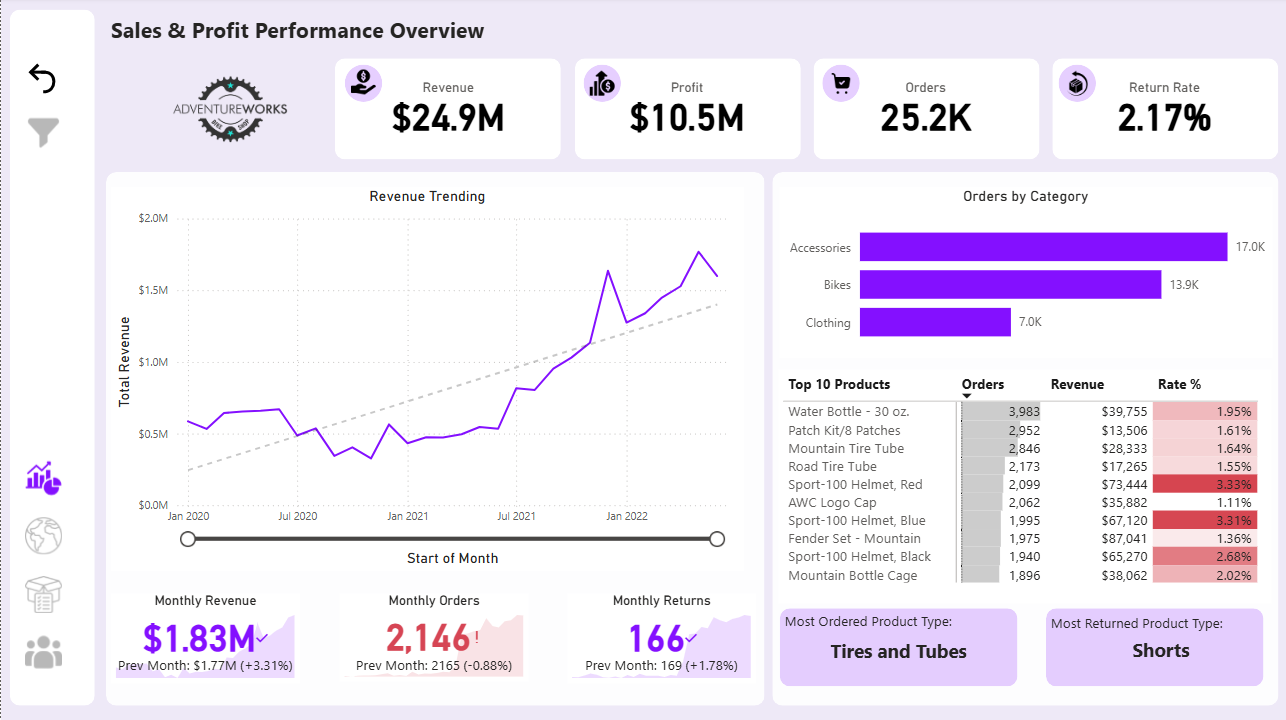

Layout of this report page (visuals, bound fields, positions):
{"tool":"powerbi","page":{"name":"Exec Dashboard","canvas":[1280,720],"ordinal":0},"visuals":[{"type":"group","id":"g1","title":"KPI shapes","box":[331.8,60.8,939.8,100.8],"z":0,"group":"g3"},{"type":"shape","box":[331.8,60.8,225.2,100.8],"z":0,"group":"g1"},{"type":"cardVisual","fields":{"Data":["Measure table.Total Revenue"]},"box":[342.3,60.8,206.3,101],"z":0,"group":"g2"},{"type":"shape","box":[767.5,174.2,503.8,531.2],"z":0},{"type":"actionButton","box":[20.6,455.9,44.7,44.7],"z":0,"group":"g4"},{"type":"group","id":"g2","title":"KPI Values","box":[342.3,60.8,919,101],"z":1000,"group":"g3"},{"type":"shape","box":[570,60.8,225.2,100.8],"z":1000,"group":"g1"},{"type":"cardVisual","fields":{"Data":["Measure table.Total Profit"]},"box":[579.9,60.8,206.3,101],"z":1000,"group":"g2"},{"type":"shape","box":[104.5,174.2,655.6,531.2],"z":1000},{"type":"actionButton","box":[20.5,513.4,45,45],"z":1000,"group":"g4"},{"type":"shape","box":[808.2,60.8,225.2,100.8],"z":2000,"group":"g1"},{"type":"cardVisual","fields":{"Data":["Measure table.Total Orders"]},"box":[817.4,60.8,206.3,101],"z":2000,"group":"g2"},{"type":"actionButton","box":[20.5,571.2,45,45],"z":2000,"group":"g4"},{"type":"shape","box":[1040.2,608.8,216.4,77.9],"z":2000},{"type":"shape","box":[1046.5,60.8,225.2,100.8],"z":3000,"group":"g1"},{"type":"cardVisual","fields":{"Data":["Measure table.Return Rate"]},"box":[1055,60.8,206.3,101],"z":3000,"group":"g2"},{"type":"lineChart","title":"Revenue Trending","fields":{"Category":["Calendar Lookup.Date Hierarchy.Start of Month"],"Y":["Measure table.Total Revenue"]},"box":[109.5,189.1,629.4,381.9],"z":3000},{"type":"actionButton","box":[20.5,629,45,45],"z":3000,"group":"g4"},{"type":"shape","title":"Nav Shape","box":[8.7,12.4,84.6,692.9],"z":4000},{"type":"group","id":"g3","title":"KPIs","box":[331.8,60.8,939.2,101],"z":5000},{"type":"kpi","title":"Monthly Revenue","fields":{"Indicator":["Measure table.Total Revenue"],"TrendLine":["Calendar Lookup.Date Hierarchy.Start of Month"],"Goal":["Measure table.Previous Month Revenue"]},"box":[109.5,593.4,187.8,89.6],"z":6000},{"type":"kpi","title":"Monthly Orders","fields":{"TrendLine":["Calendar Lookup.Date Hierarchy.Start of Month"],"Indicator":["Measure table.Total Orders"],"Goal":["Measure table.Previous Month Orders"]},"box":[337.1,593.4,187.8,88.3],"z":7000},{"type":"kpi","title":"Monthly Returns","fields":{"TrendLine":["Calendar Lookup.Date Hierarchy.Start of Month"],"Indicator":["Measure table.Total Returns"],"Goal":["Measure table.Previous Month Returns"]},"box":[563.5,593.4,187.8,89.6],"z":8000},{"type":"clusteredBarChart","title":"Orders by Category","fields":{"Category":["Product Categories Lookup.CategoryName"],"Y":["Measure table.Total Orders"]},"box":[775,189.1,490.1,170.4],"z":9000},{"type":"pivotTable","fields":{"Rows":["Product Lookup.ProductName"],"Values":["Measure table.Total Orders","Measure table.Total Revenue","Measure table.Return Rate"]},"box":[773.7,370.7,490.1,232.6],"z":10000},{"type":"shape","box":[774.8,608.8,236.6,77.9],"z":11000},{"type":"cardVisual","fields":{"Data":["Min(Product Subcategories Lookup.SubcategoryName)"]},"box":[790.6,618.9,204.9,59.2],"z":12000},{"type":"textbox","box":[774.8,607.4,199.1,36.1],"z":13000},{"type":"cardVisual","fields":{"Data":["Min(Product Subcategories Lookup.SubcategoryName)"]},"box":[1051.9,619.4,204.7,58.7],"z":14000},{"type":"textbox","box":[1039.4,608.7,199.3,35.6],"z":15000},{"type":"actionButton","box":[21.1,61,46,39.8],"z":16000},{"type":"group","id":"g4","title":"Nav Buttons","box":[20.5,455.9,45,218.1],"z":17000},{"type":"actionButton","box":[19.9,112,44.8,44.8],"z":18000},{"type":"image","box":[159.2,73.4,138.1,77.1],"z":20000},{"type":"shape","box":[342.1,67.2,37.3,37.3],"z":21000},{"type":"shape","box":[579.7,67.2,37.3,37.3],"z":22000},{"type":"shape","box":[817.3,67.2,37.3,37.3],"z":23000},{"type":"shape","box":[1052.4,67.2,37.3,37.3],"z":24000},{"type":"image","box":[348.3,72.1,24.9,24.9],"z":25000},{"type":"image","box":[585.9,73.4,24.9,24.9],"z":26000},{"type":"image","box":[823.5,73.4,24.9,24.9],"z":27000},{"type":"image","box":[1058.6,73.4,24.9,24.9],"z":28000},{"type":"textbox","box":[104.5,12.4,655.6,41.1],"z":29000}]}

Visuals, with their boxes on the page's 1280x720 design canvas (x1, y1, x2, y2). These are canvas units, not pixel positions in the 1286x720 screenshot, which may show the page scaled, cropped or inside an application window:
"KPI shapes" group: [332, 61, 1272, 162]
shape: [332, 61, 557, 162]
cardVisual - Measure table.Total Revenue: [342, 61, 549, 162]
shape: [768, 174, 1271, 705]
actionButton: [21, 456, 65, 501]
"KPI Values" group: [342, 61, 1261, 162]
shape: [570, 61, 795, 162]
cardVisual - Measure table.Total Profit: [580, 61, 786, 162]
shape: [104, 174, 760, 705]
actionButton: [20, 513, 66, 558]
shape: [808, 61, 1033, 162]
cardVisual - Measure table.Total Orders: [817, 61, 1024, 162]
actionButton: [20, 571, 66, 616]
shape: [1040, 609, 1257, 687]
shape: [1046, 61, 1272, 162]
cardVisual - Measure table.Return Rate: [1055, 61, 1261, 162]
"Revenue Trending" lineChart: [110, 189, 739, 571]
actionButton: [20, 629, 66, 674]
"Nav Shape" shape: [9, 12, 93, 705]
"KPIs" group: [332, 61, 1271, 162]
"Monthly Revenue" kpi: [110, 593, 297, 683]
"Monthly Orders" kpi: [337, 593, 525, 682]
"Monthly Returns" kpi: [564, 593, 751, 683]
"Orders by Category" clusteredBarChart: [775, 189, 1265, 360]
pivotTable - Product Lookup.ProductName x Measure table.Total Orders: [774, 371, 1264, 603]
shape: [775, 609, 1011, 687]
cardVisual - Min(Product Subcategories Lookup.SubcategoryName): [791, 619, 996, 678]
textbox: [775, 607, 974, 644]
cardVisual - Min(Product Subcategories Lookup.SubcategoryName): [1052, 619, 1257, 678]
textbox: [1039, 609, 1239, 644]
actionButton: [21, 61, 67, 101]
"Nav Buttons" group: [20, 456, 66, 674]
actionButton: [20, 112, 65, 157]
image: [159, 73, 297, 150]
shape: [342, 67, 379, 104]
shape: [580, 67, 617, 104]
shape: [817, 67, 855, 104]
shape: [1052, 67, 1090, 104]
image: [348, 72, 373, 97]
image: [586, 73, 611, 98]
image: [824, 73, 848, 98]
image: [1059, 73, 1084, 98]
textbox: [104, 12, 760, 54]
